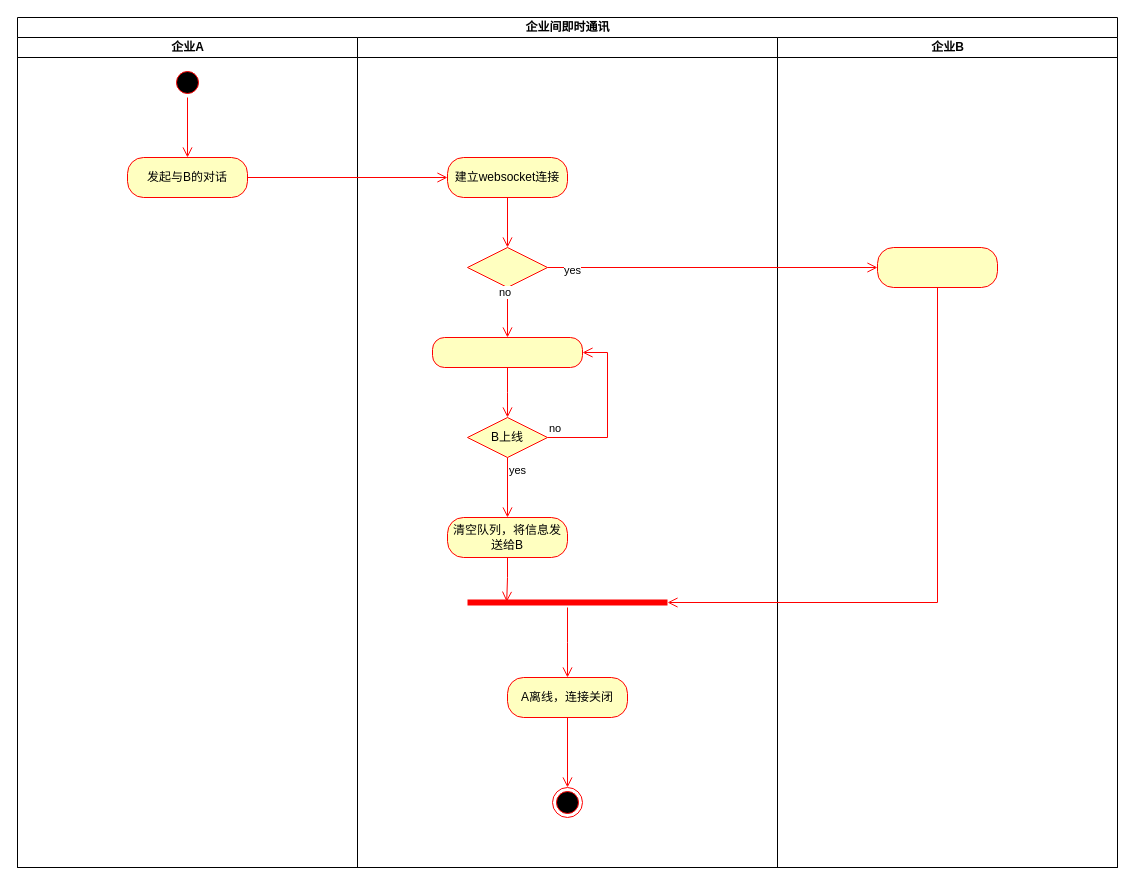
This 1135x885 diagram has some shape labels left out. Here are the shapes that lost their labels. From the top down, the box of each, then its label:
(466, 246, 548, 288): B在线
(876, 246, 998, 288): 给A回复消息
(432, 336, 582, 368): 使用redis消息队列暂存消息
(356, 36, 778, 868): 服务器
